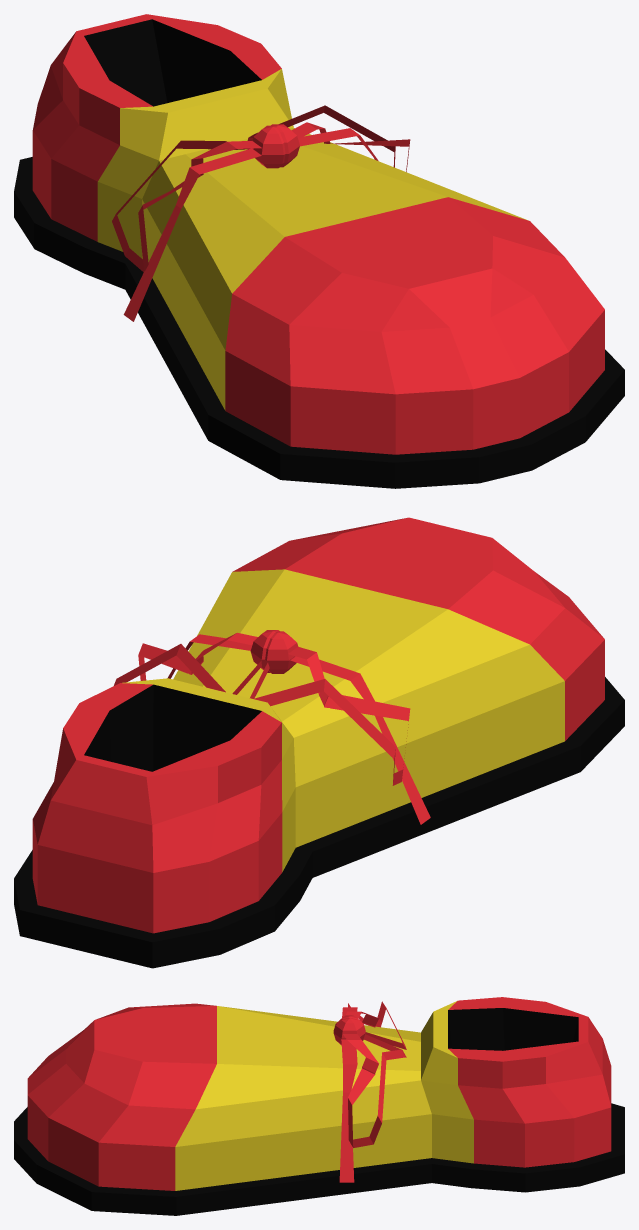
The model's file is clown boot.fbx.
3 views of the same model, one above another, from view 1: azimuth 30°, elevation 25°; view 2: azimuth 150°, elevation 25°; view 3: azimuth 270°, elevation 25° (orthographic). The views are drawn at different scales.
Visible parts, largest first — view 1: Cube; view 2: Cube; view 3: Cube.
Boxes of the visible parts, x1,y1,x2,y2 form: Cube: (14,14,624,488); Cube: (14,517,624,968); Cube: (14,997,624,1215).
Bounding box in the file's own units: 55.84 × 26.07 × 109.
